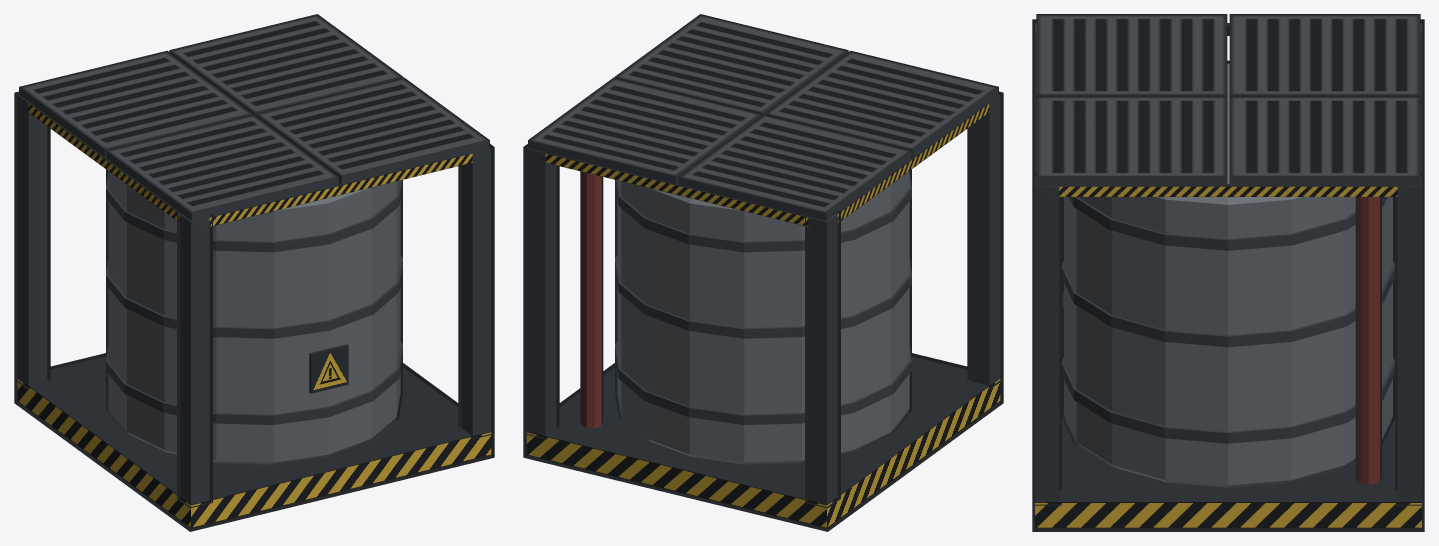
Rendered from SM_Tank.glb.
3 views of the same model, side by side, from view 1: azimuth 30°, elevation 25°; view 2: azimuth 150°, elevation 25°; view 3: azimuth 270°, elevation 25° (orthographic). The views are drawn at different scales.
Visible parts, largest first — view 1: SM_Tank, SM_Tank_Outline; view 2: SM_Tank, SM_Tank_Outline; view 3: SM_Tank, SM_Tank_Outline.
Boxes of the visible parts, x1,y1,x2,y2 form: SM_Tank: (17, 15, 491, 528); SM_Tank_Outline: (14, 14, 494, 531); SM_Tank: (526, 15, 1000, 528); SM_Tank_Outline: (523, 14, 1003, 531); SM_Tank: (1035, 15, 1421, 528); SM_Tank_Outline: (1032, 14, 1424, 531).
Size of the model in its own units: 4.06 by 4.04 by 4.06.
Materials: 2 (1 with a texture image).
